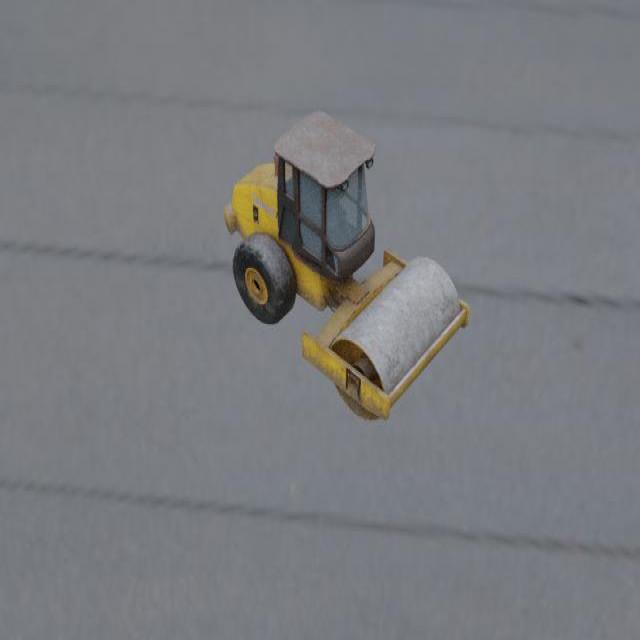Roller: (223, 109, 470, 423)
